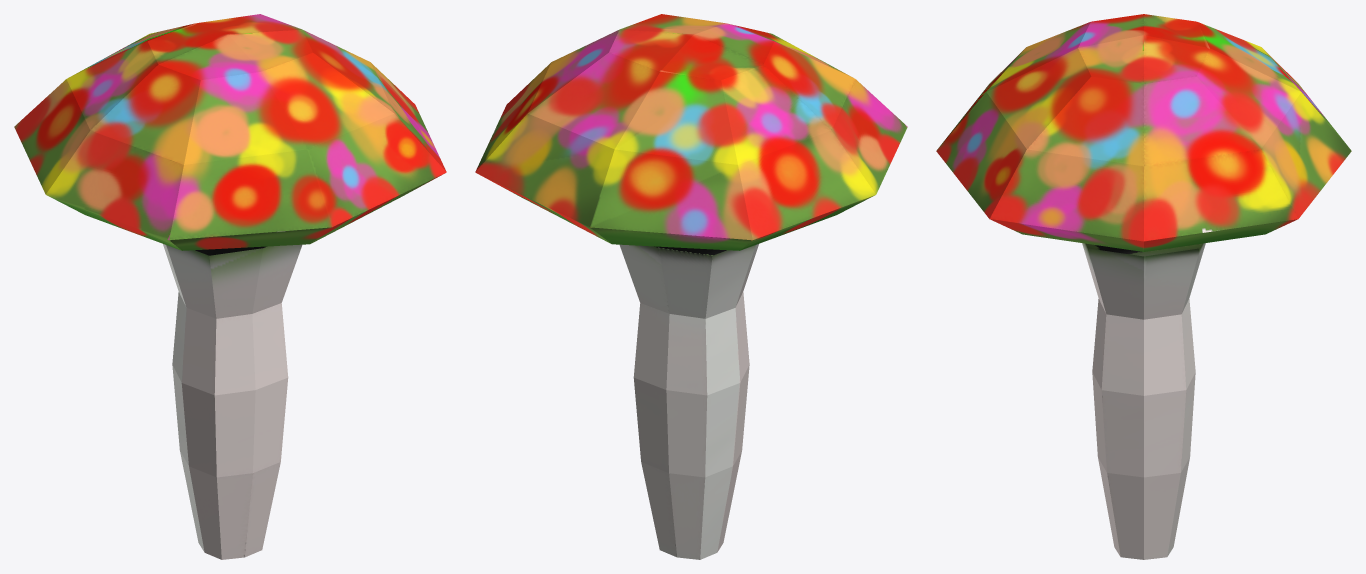
Rendered from Kukkakimppu.fbx.
3 renders of one model, left to right at view 1: azimuth 30°, elevation 25°; view 2: azimuth 150°, elevation 25°; view 3: azimuth 270°, elevation 25°, orthographic.
Parts seen in each view (by area): view 1: Cube; view 2: Cube; view 3: Cube.
Boxes of the visible parts, bbox=[...] form: Cube: bbox=[14, 14, 446, 559]; Cube: bbox=[475, 14, 907, 559]; Cube: bbox=[936, 14, 1351, 559].
Bounding box in the file's own units: 262 × 348 × 256.
